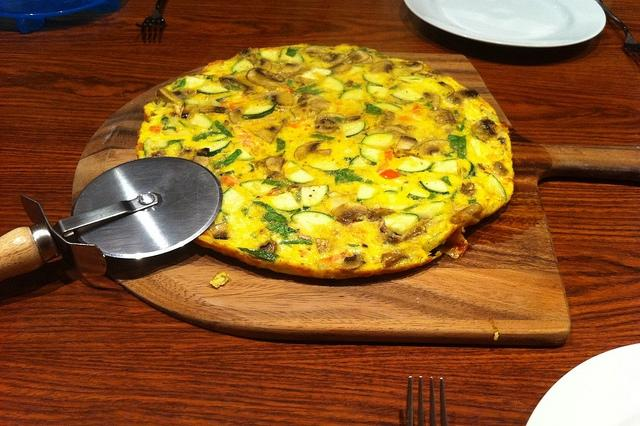mushroom: (314, 113, 360, 134), (328, 203, 369, 226), (219, 72, 258, 94), (434, 234, 468, 259), (246, 67, 286, 87), (294, 139, 332, 160), (304, 46, 346, 64), (450, 202, 483, 224), (248, 124, 284, 144), (416, 140, 457, 156), (444, 89, 480, 106), (380, 249, 411, 268), (157, 86, 186, 106), (472, 119, 496, 143), (266, 183, 306, 196), (251, 156, 283, 172), (339, 253, 364, 269), (367, 208, 395, 222), (208, 222, 228, 240), (346, 50, 370, 65), (270, 91, 294, 106), (370, 60, 394, 74), (434, 110, 456, 125), (396, 136, 418, 150), (399, 60, 424, 71), (380, 110, 394, 129), (280, 62, 302, 74), (258, 240, 278, 253), (181, 104, 197, 120), (316, 238, 331, 254), (198, 106, 227, 114), (298, 94, 314, 108), (493, 162, 509, 176), (461, 182, 476, 196), (424, 91, 441, 103), (383, 126, 407, 134), (438, 81, 454, 93), (178, 149, 195, 160), (246, 53, 258, 65), (151, 149, 167, 157), (195, 148, 210, 156)
vegetable marrow: (252, 201, 300, 239), (316, 113, 366, 138), (221, 184, 254, 214), (240, 178, 288, 197), (382, 211, 419, 235), (192, 120, 234, 140), (406, 201, 446, 220), (259, 192, 301, 210), (291, 210, 337, 225), (396, 156, 434, 174), (301, 185, 328, 210), (286, 160, 314, 184), (237, 248, 279, 262), (362, 133, 394, 151), (334, 168, 364, 186), (242, 104, 274, 120), (488, 174, 507, 200), (428, 158, 458, 174), (390, 88, 424, 102), (320, 76, 345, 95), (418, 181, 451, 195), (362, 70, 386, 87), (208, 140, 232, 157), (356, 184, 381, 200), (190, 113, 213, 130), (279, 48, 305, 63), (308, 161, 340, 173), (230, 58, 254, 74), (360, 148, 380, 166), (197, 84, 230, 94), (457, 158, 475, 175), (338, 88, 362, 100), (365, 101, 383, 115), (372, 102, 402, 110), (349, 155, 367, 167), (143, 137, 154, 156), (186, 76, 204, 86), (312, 68, 332, 76), (285, 47, 298, 57), (389, 82, 398, 90)
